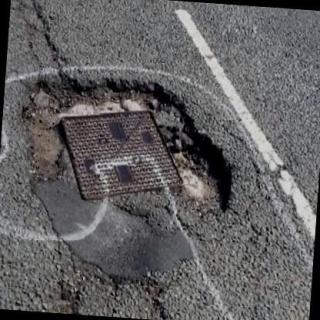pothole: (31, 79, 232, 278)
